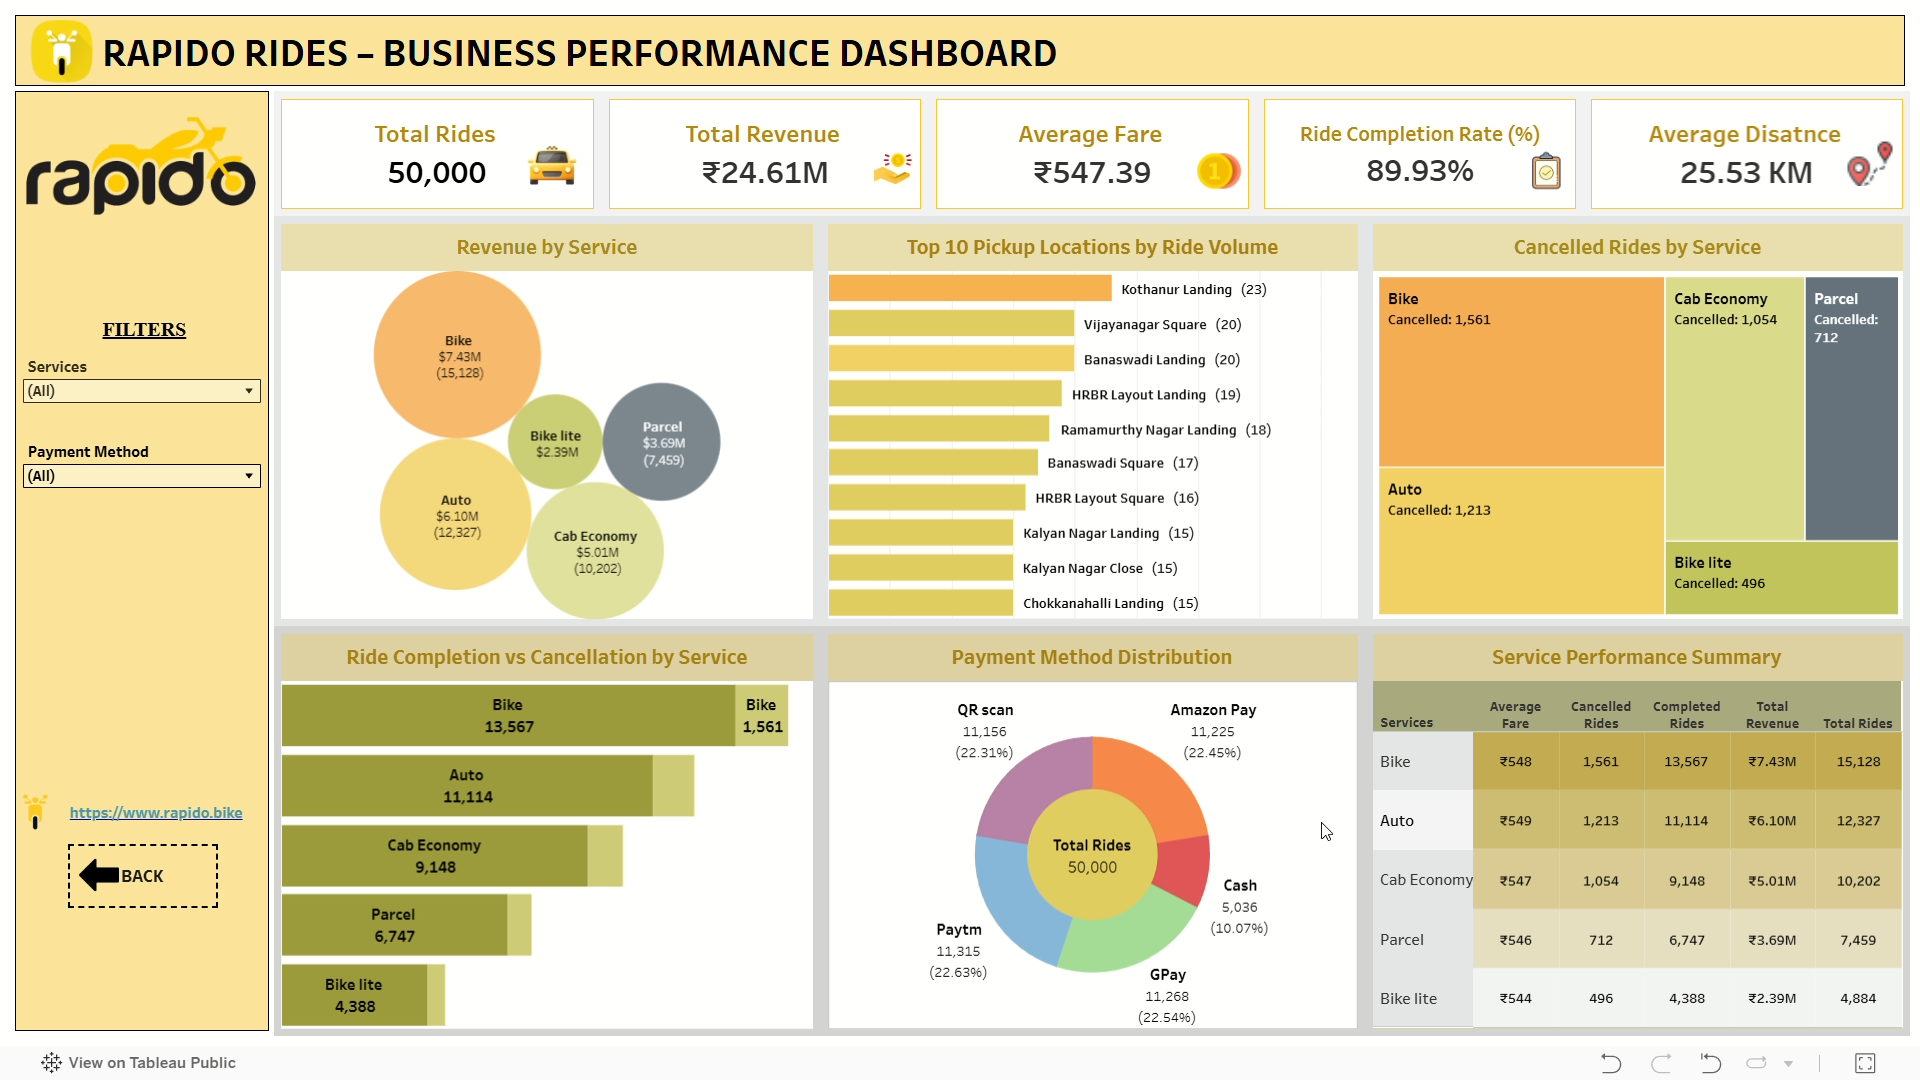

The page's visual inventory and layout, read from the dashboard file:
{"tool":"tableau","page":{"name":"Main Board","canvas":[1000,1000],"units":"permille","ordinal":1},"visuals":[{"type":"title","box":[4.8,10,990.3,77.5]},{"type":"image","param":"Image/Rapido-logo.png","box":[10.9,18.7,42.2,59.9]},{"type":"image","param":"Image/Rapido-Logo-PNG2.png","box":[4.4,82.4,138.4,152.3]},{"type":"worksheet","title":"Total Rides","mark":"Automatic","box":[142.4,87.4,170.8,119.9]},{"type":"worksheet","title":"Total Revenue","mark":"Automatic","box":[313.2,87.4,170.8,119.9]},{"type":"worksheet","title":"Average Fare","mark":"Automatic","box":[484,87.4,170.8,119.9]},{"type":"worksheet","title":"Ride Completion Rate (%)","mark":"Automatic","box":[654.8,87.4,170.2,119.9]},{"type":"worksheet","title":"Average Distance","mark":"Automatic","box":[825,87.4,170.2,119.9]},{"type":"blank","box":[7.9,88.6,131.6,82.4]},{"type":"image","param":"Image/icons8-distance-24 (1).png","box":[961.9,134.4,24.4,43.3]},{"type":"image","param":"Image/icons8-taxi-94.png","box":[272.5,135.6,29.4,46.7]},{"type":"image","param":"Image/icons8-average-48.png","box":[621.2,140,27.5,47.8]},{"type":"image","param":"Image/icons8-get-revenue-48.png","box":[452.5,141.1,24.4,38.9]},{"type":"image","param":"Image/icons8-task-completed-100.png","box":[793,142.3,24.7,43.7]},{"type":"blank","box":[7.9,171,131.6,82.4]},{"type":"worksheet","title":"Revenue by Service","mark":"Circle","box":[142.4,207.2,284.2,390.8]},{"type":"worksheet","title":"Top 10 Pickup Locations by Ride Volume","mark":"Automatic","rows":["source"],"cols":["Calculation_1015419966935041"],"box":[426.7,207.2,284.2,390.8]},{"type":"worksheet","title":"Cancelled Rides by Service","mark":"Automatic","box":[710.9,207.2,284.2,390.8]},{"type":"blank","box":[7.9,253.4,131.6,81.2]},{"type":"text","box":[41.6,280.9,67,67.4]},{"type":"filter","title":"Ride Completion vs Cancellation by Service","param":"[federated.0mwfk680kacvn41aj6jrk06n56gy].[Action (Services)]","box":[7.9,334.6,131.6,81.2]},{"type":"filter","title":"Revenue by Service","param":"[federated.0mwfk680kacvn41aj6jrk06n56gy].[none:payment_method:nk]","box":[7.9,415.7,131.6,81.2]},{"type":"blank","box":[7.9,496.9,131.6,81.2]},{"type":"blank","box":[7.9,578,131.6,81.2]},{"type":"worksheet","title":"Ride Completion vs Cancellation by Service","mark":"Bar","rows":["services"],"cols":["Calculation_1015419966935041"],"box":[142.4,598,284.2,392]},{"type":"worksheet","title":"Payment Method Distribution","mark":"Pie","rows":["Calculation_1015420012818453","Calculation_1015420012851223"],"box":[426.7,598,284.2,392]},{"type":"worksheet","title":"Service Performance Summary","mark":"Square","rows":["services"],"box":[710.9,598,284.2,392]},{"type":"blank","box":[7.9,659.2,131.6,81.1]},{"type":"blank","box":[7.9,740.3,131.6,81.2]},{"type":"text","box":[13,745.3,128.5,62.4]},{"type":"image","param":"Image/Rapido-Logo-PNG1.png","box":[0.6,752.8,35.4,46.2]},{"type":"dashboard-object","box":[35.4,806.5,77.6,61.2]},{"type":"image","param":"Image/left-arrow.png","box":[35.4,817.7,32.9,37.5]},{"type":"blank","box":[7.9,821.5,131.6,81.2]},{"type":"blank","box":[7.9,902.6,131.6,81.2]}]}

Visuals, with their boxes on the dashboard's canvas, which has no fixed pixel size, in thousandths of its width and height (x1, y1, x2, y2). These are canvas units, not pixel positions in the 1920x1080 screenshot, which may show the page scaled, cropped or inside an application window:
title: [left=5, top=10, right=995, bottom=88]
image: [left=11, top=19, right=53, bottom=79]
image: [left=4, top=82, right=143, bottom=235]
"Total Rides" worksheet: [left=142, top=87, right=313, bottom=207]
"Total Revenue" worksheet: [left=313, top=87, right=484, bottom=207]
"Average Fare" worksheet: [left=484, top=87, right=655, bottom=207]
"Ride Completion Rate (%)" worksheet: [left=655, top=87, right=825, bottom=207]
"Average Distance" worksheet: [left=825, top=87, right=995, bottom=207]
blank: [left=8, top=89, right=140, bottom=171]
image: [left=962, top=134, right=986, bottom=178]
image: [left=272, top=136, right=302, bottom=182]
image: [left=621, top=140, right=649, bottom=188]
image: [left=452, top=141, right=477, bottom=180]
image: [left=793, top=142, right=818, bottom=186]
blank: [left=8, top=171, right=140, bottom=253]
"Revenue by Service" worksheet (Circle marks): [left=142, top=207, right=427, bottom=598]
"Top 10 Pickup Locations by Ride Volume" worksheet: [left=427, top=207, right=711, bottom=598]
"Cancelled Rides by Service" worksheet: [left=711, top=207, right=995, bottom=598]
blank: [left=8, top=253, right=140, bottom=335]
text: [left=42, top=281, right=109, bottom=348]
"Ride Completion vs Cancellation by Service" filter: [left=8, top=335, right=140, bottom=416]
"Revenue by Service" filter: [left=8, top=416, right=140, bottom=497]
blank: [left=8, top=497, right=140, bottom=578]
blank: [left=8, top=578, right=140, bottom=659]
"Ride Completion vs Cancellation by Service" worksheet (Bar marks): [left=142, top=598, right=427, bottom=990]
"Payment Method Distribution" worksheet (Pie marks): [left=427, top=598, right=711, bottom=990]
"Service Performance Summary" worksheet (Square marks): [left=711, top=598, right=995, bottom=990]
blank: [left=8, top=659, right=140, bottom=740]
blank: [left=8, top=740, right=140, bottom=822]
text: [left=13, top=745, right=142, bottom=808]
image: [left=1, top=753, right=36, bottom=799]
dashboard-object: [left=35, top=806, right=113, bottom=868]
image: [left=35, top=818, right=68, bottom=855]
blank: [left=8, top=822, right=140, bottom=903]
blank: [left=8, top=903, right=140, bottom=984]
